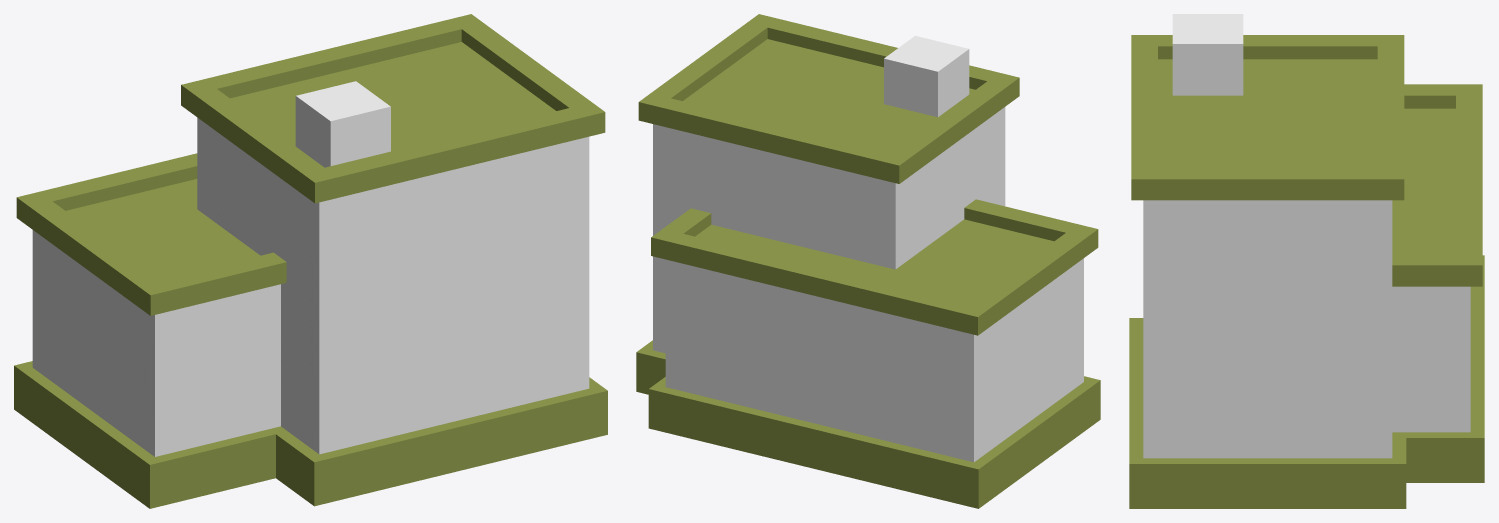
Rendered from Map-House-S-Lv2-G.fbx.
3 views of the same model, side by side, from view 1: azimuth 30°, elevation 25°; view 2: azimuth 150°, elevation 25°; view 3: azimuth 270°, elevation 25° (orthographic). The views are drawn at different scales.
Parts seen in each view (by area): view 1: Map-House-S-Lv2-G; view 2: Map-House-S-Lv2-G; view 3: Map-House-S-Lv2-G.
Part boxes in pixels (x1,y1,x2,y2): Map-House-S-Lv2-G: (14,14,607,508); Map-House-S-Lv2-G: (636,14,1100,508); Map-House-S-Lv2-G: (1129,14,1484,508).
Size of the model in its own units: 1.6 by 1.32 by 1.15.
